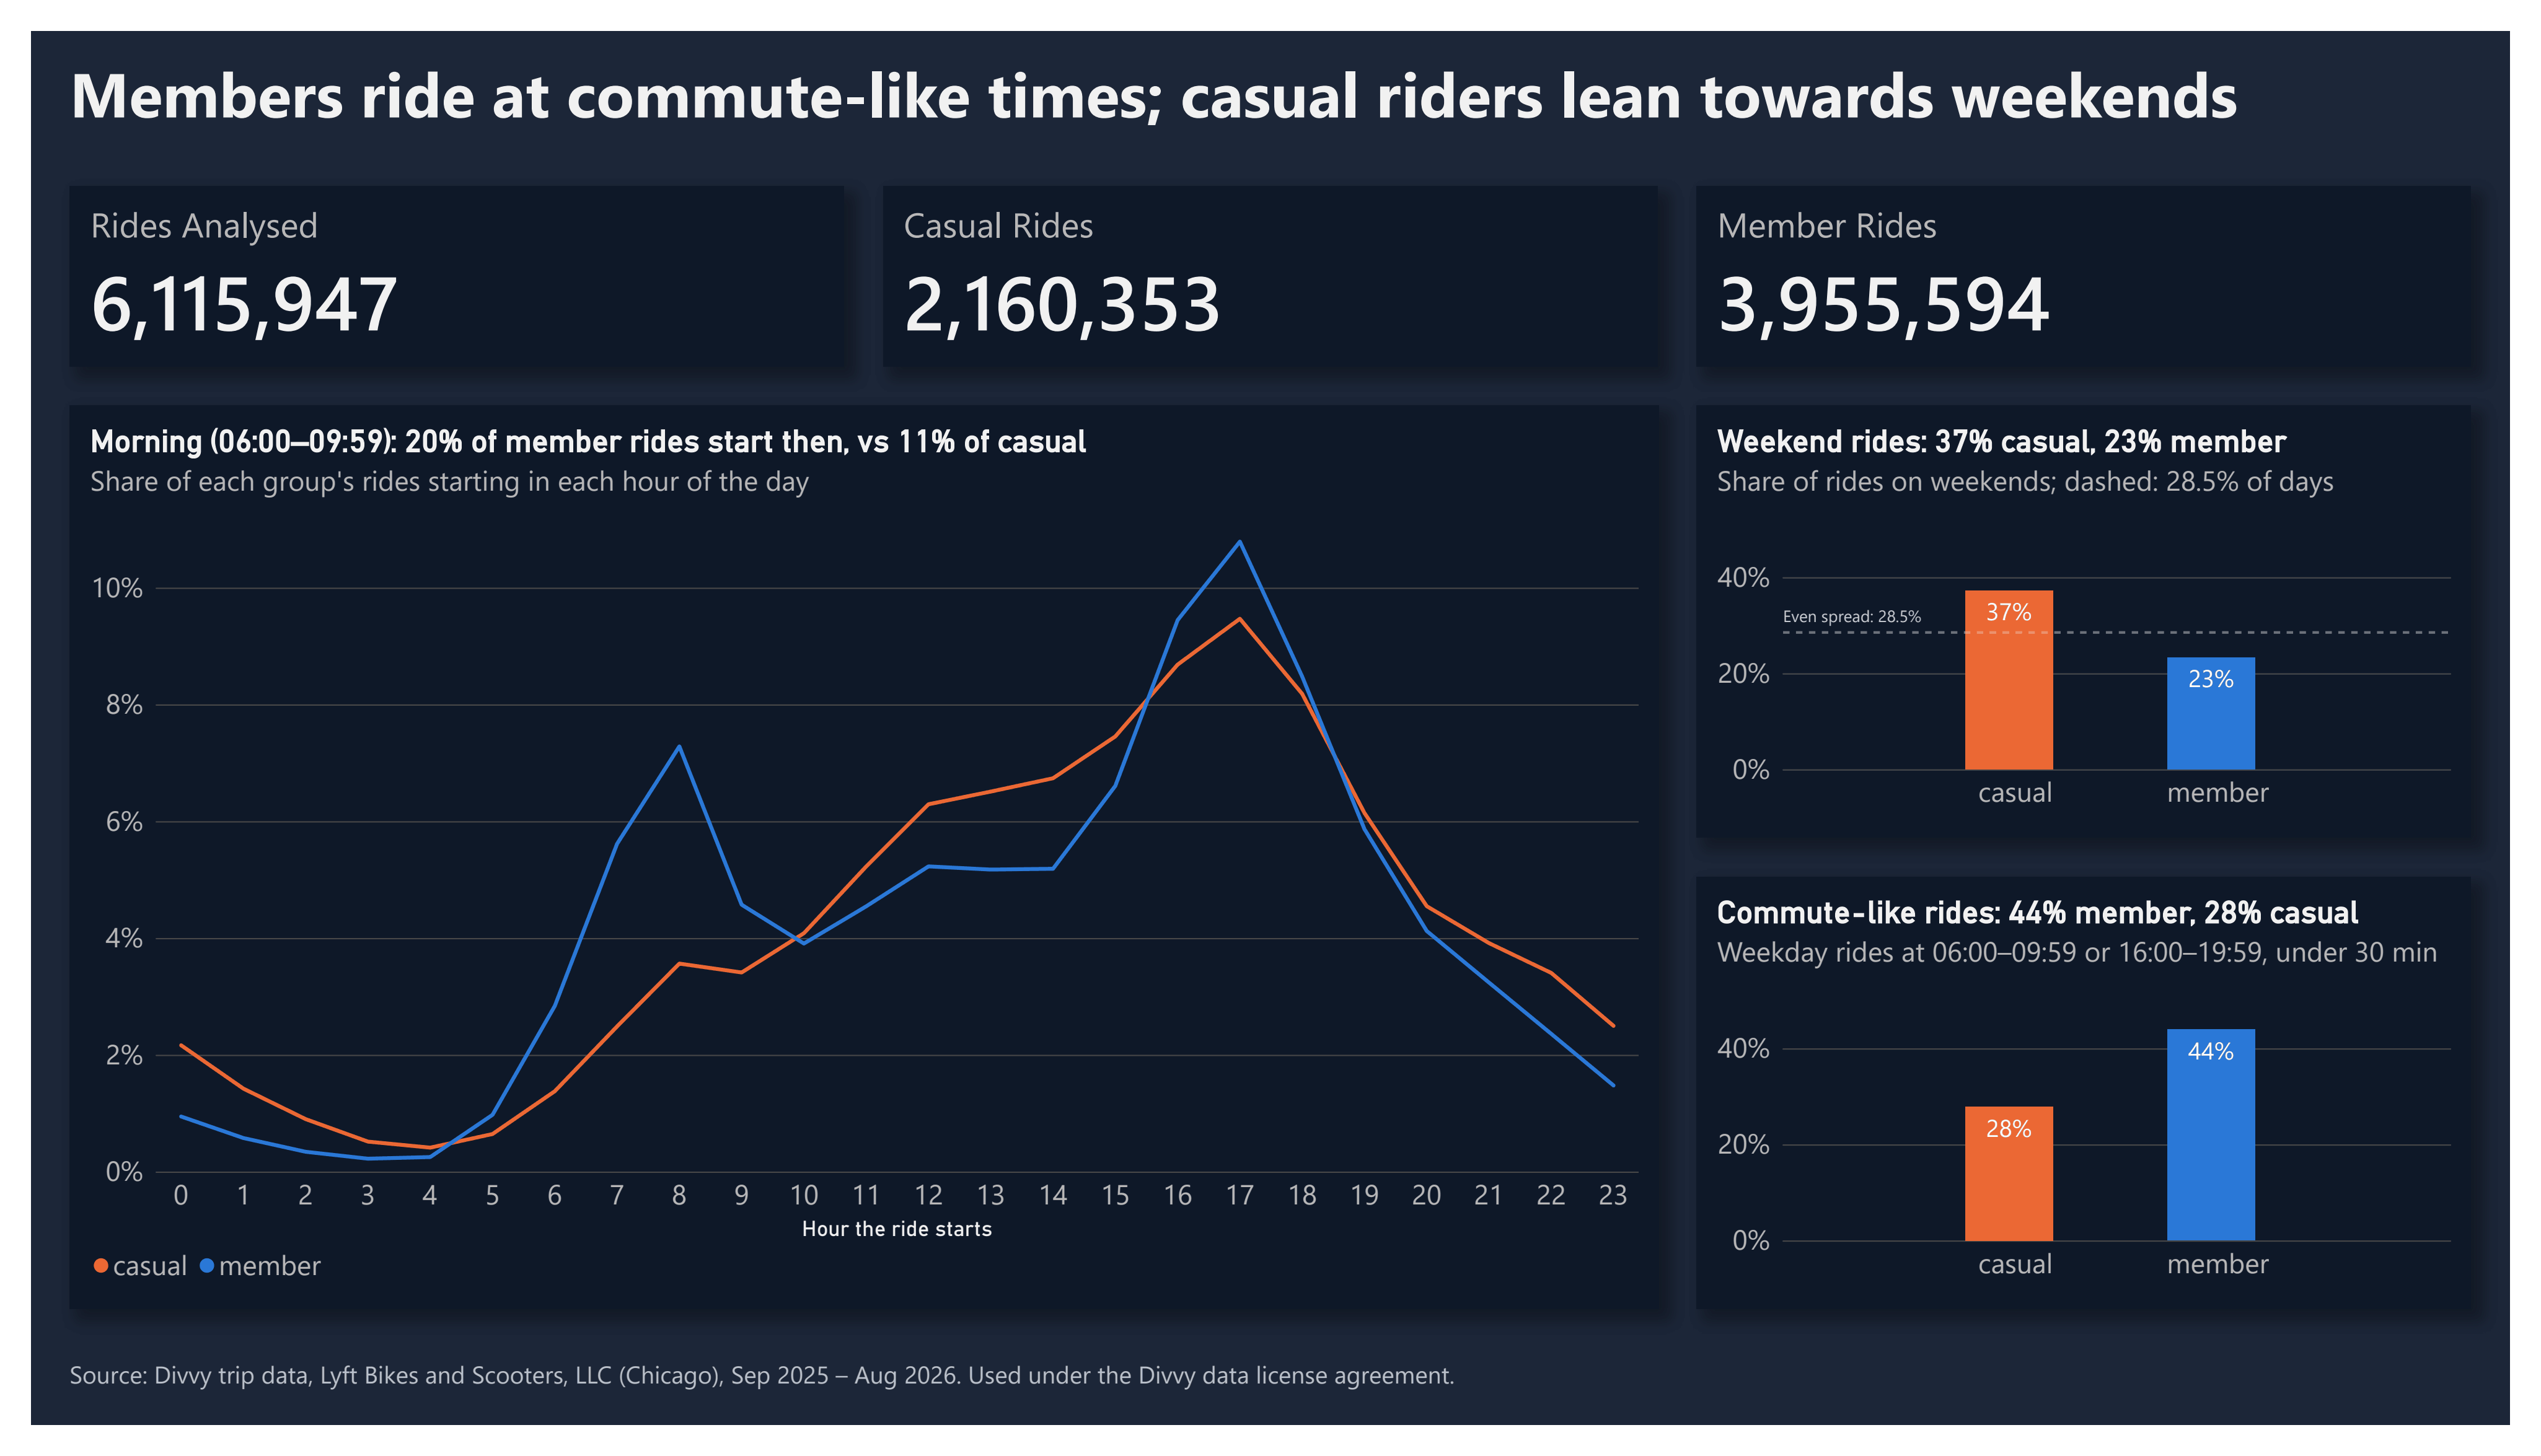

The page's visual inventory and layout, read from the dashboard file:
{"tool":"powerbi","page":{"name":"When they ride","canvas":[1920,1080],"ordinal":0},"visuals":[{"type":"lineChart","title":"Morning (06:00–09:59): 20% of member rides start then, vs 11% of casual","fields":{"Category":["fact_rides.start_hour"],"Series":["fact_rides.member_casual"],"Y":["fact_rides.Hour Share"]},"box":[30,290,1230.6,700],"z":0},{"type":"textbox","box":[30,15,1860,75],"z":1000},{"type":"textbox","box":[30,1028,1860,42],"z":2000},{"type":"cardVisual","fields":{"Data":["fact_rides.Rides"]},"box":[30,120,600,140],"z":3000},{"type":"cardVisual","fields":{"Data":["fact_rides.Casual Rides Label"]},"box":[660,120,600,140],"z":4000},{"type":"cardVisual","fields":{"Data":["fact_rides.Member Rides Label"]},"box":[1290,120,600,140],"z":5000},{"type":"clusteredColumnChart","title":"Weekend rides: 37% casual, 23% member","fields":{"Category":["fact_rides.member_casual"],"Y":["fact_rides.Weekend Share"]},"box":[1290.1,290,600.4,335],"z":6000},{"type":"clusteredColumnChart","title":"Commute-like rides: 44% member, 28% casual","fields":{"Category":["fact_rides.member_casual"],"Y":["fact_rides.Rush-Hour Share"]},"box":[1290.1,655.2,600.4,335],"z":7000}]}

Visuals, with their boxes on the page's 1920x1080 design canvas (x1, y1, x2, y2). These are canvas units, not pixel positions in the 2541x1456 screenshot, which may show the page scaled, cropped or inside an application window:
"Morning (06:00–09:59): 20% of member rides start then, vs 11% of casual" lineChart: bbox=[30, 290, 1261, 990]
textbox: bbox=[30, 15, 1890, 90]
textbox: bbox=[30, 1028, 1890, 1070]
cardVisual - fact_rides.Rides: bbox=[30, 120, 630, 260]
cardVisual - fact_rides.Casual Rides Label: bbox=[660, 120, 1260, 260]
cardVisual - fact_rides.Member Rides Label: bbox=[1290, 120, 1890, 260]
"Weekend rides: 37% casual, 23% member" clusteredColumnChart: bbox=[1290, 290, 1890, 625]
"Commute-like rides: 44% member, 28% casual" clusteredColumnChart: bbox=[1290, 655, 1890, 990]
